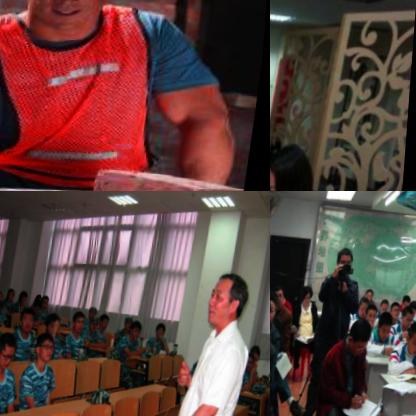head: (207, 268, 255, 329), (270, 138, 320, 191), (348, 318, 376, 358), (36, 329, 59, 362), (0, 332, 20, 368), (378, 310, 398, 342), (336, 245, 356, 272), (20, 305, 39, 333), (46, 311, 64, 337), (405, 318, 416, 355), (400, 302, 416, 327), (74, 310, 90, 334), (272, 284, 288, 308), (130, 317, 146, 340), (366, 301, 382, 323), (358, 293, 373, 316), (390, 300, 406, 321), (270, 290, 280, 323), (124, 313, 139, 333), (253, 342, 266, 364), (155, 318, 169, 338), (99, 311, 113, 329), (302, 285, 316, 303), (90, 313, 103, 332), (6, 284, 19, 301), (247, 349, 258, 369), (41, 293, 52, 312), (33, 297, 45, 314), (89, 303, 101, 319), (19, 288, 31, 304), (404, 290, 415, 307), (383, 296, 393, 311), (366, 286, 376, 300), (0, 286, 8, 303), (409, 298, 416, 316)
helmet: (0, 0, 150, 37)
